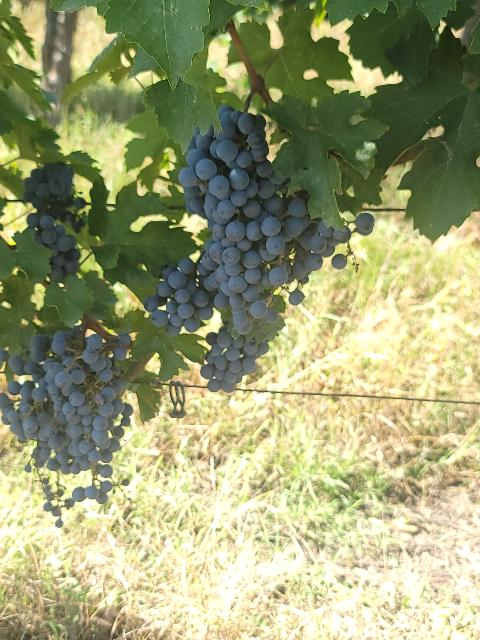grapes: (179, 106, 298, 304), (38, 326, 132, 480), (0, 334, 64, 528), (24, 164, 86, 282), (144, 258, 214, 335)
